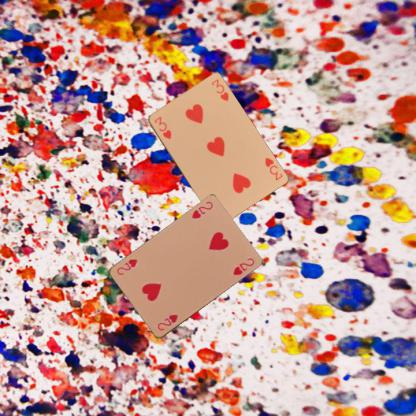2h: (189, 199, 214, 220), (155, 312, 180, 332)
3h: (262, 155, 284, 181), (152, 114, 172, 140)
